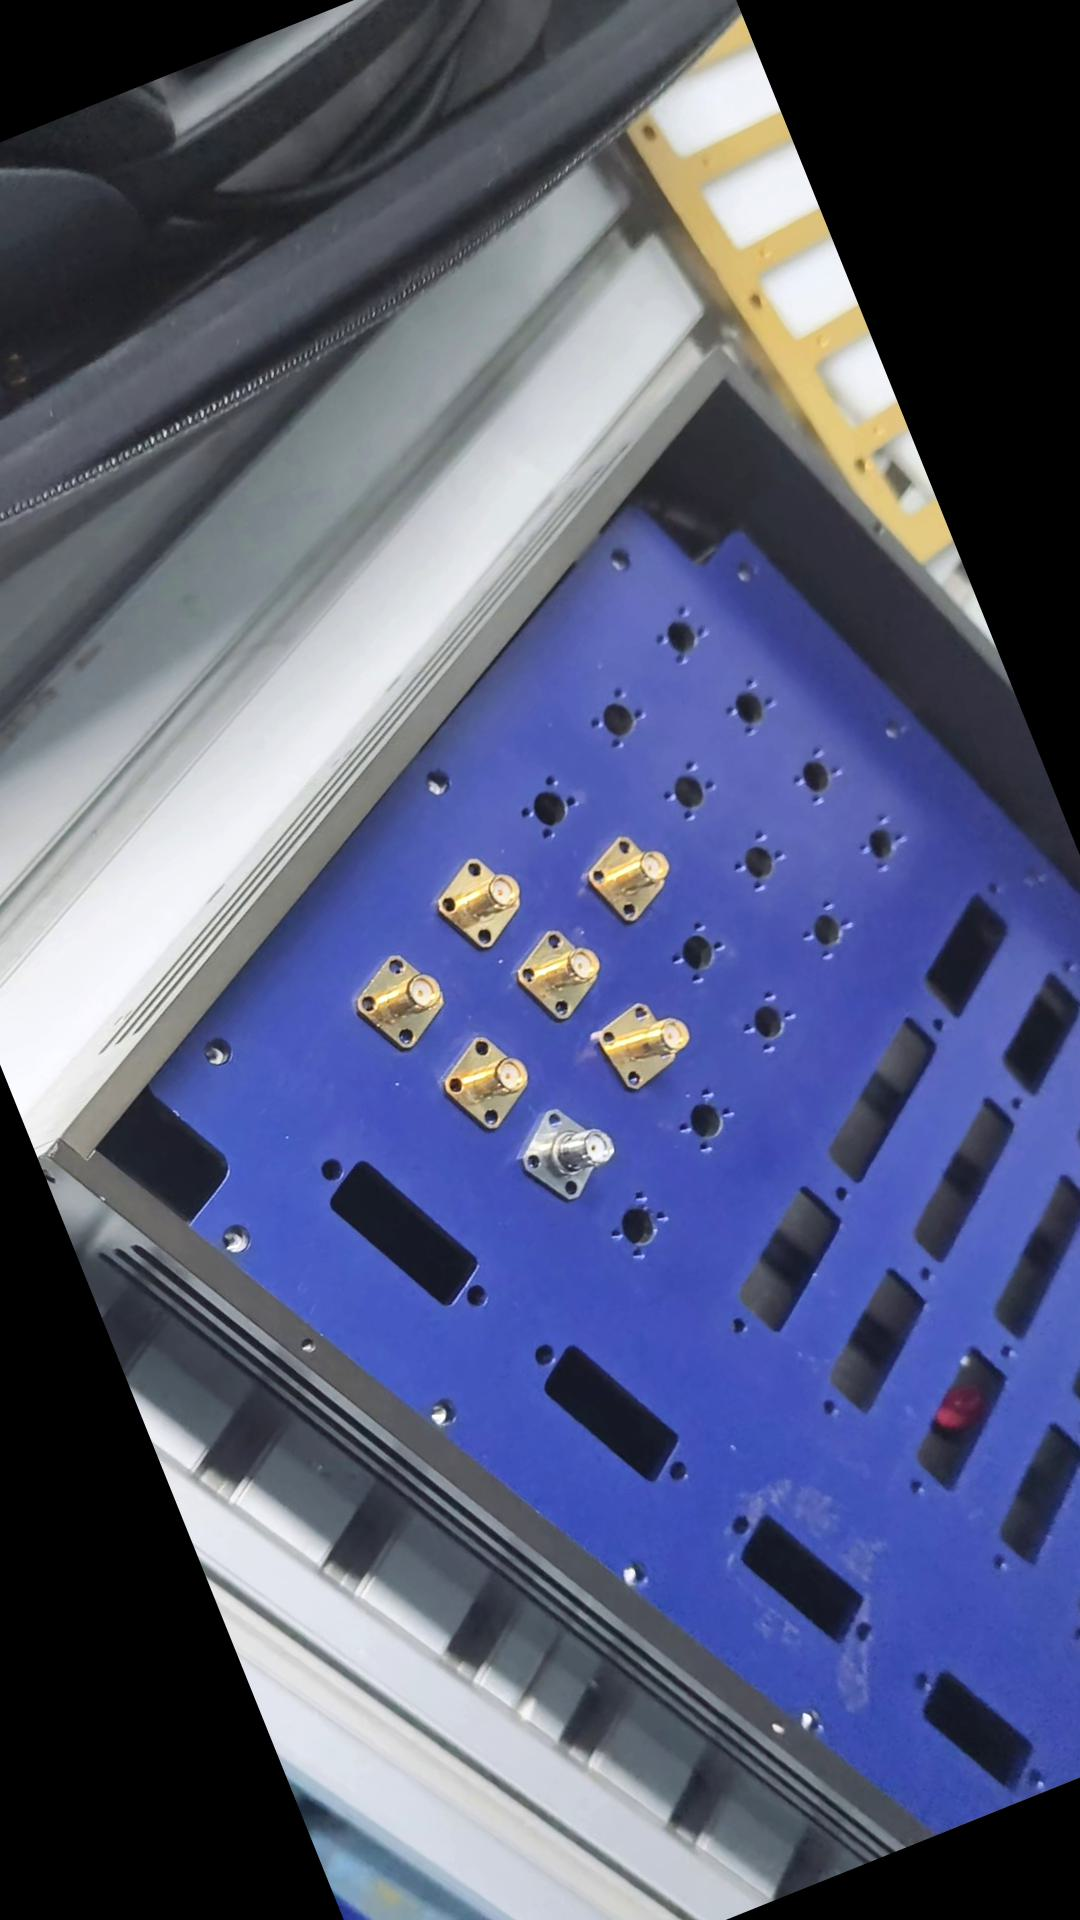SMA: (498, 1085, 632, 1217), (331, 934, 460, 1065), (425, 1014, 554, 1142), (502, 914, 622, 1034), (575, 820, 688, 936), (426, 841, 541, 955), (588, 992, 698, 1096)
